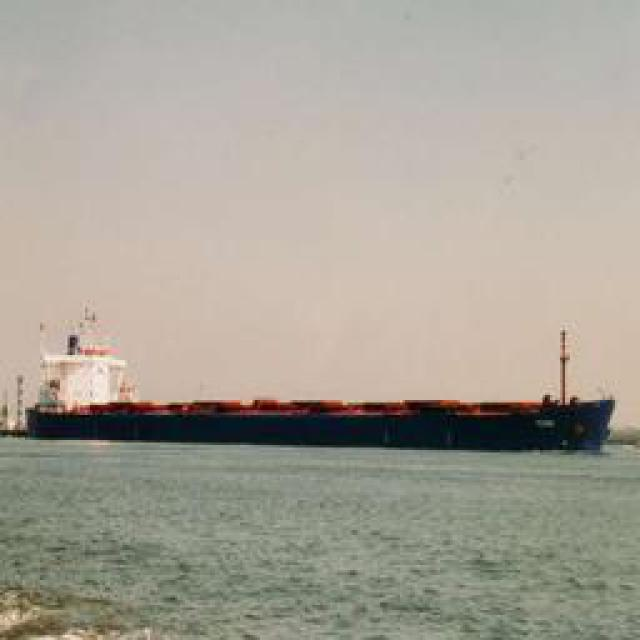Ship: (11, 386, 619, 451)
